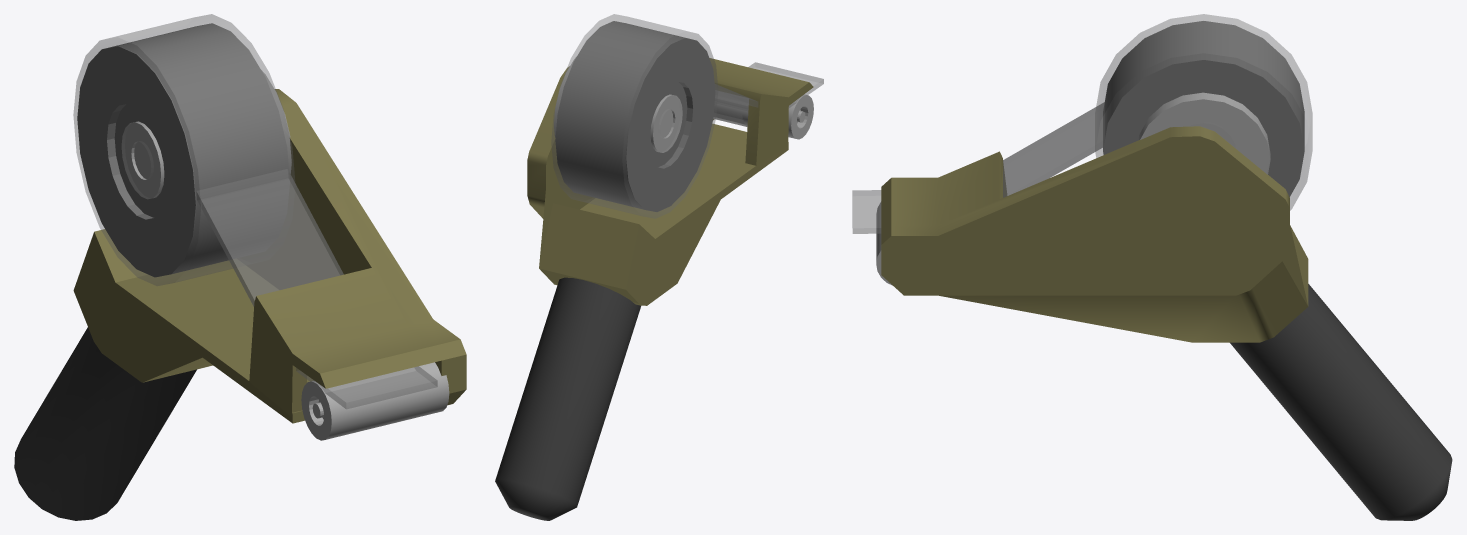
File: TapeRoller.fbx
The picture shows the model from 3 angles, left to right: view 1: azimuth 30°, elevation 25°; view 2: azimuth 150°, elevation 25°; view 3: azimuth 270°, elevation 25°; orthographic projection. The views are drawn at different scales.
Parts seen in each view (by area): view 1: TapeRoller1; view 2: TapeRoller1; view 3: TapeRoller1.
Part boxes in pixels (left/top/right/bottom): TapeRoller1: left=14, top=14, right=466, bottom=520; TapeRoller1: left=495, top=14, right=823, bottom=520; TapeRoller1: left=852, top=14, right=1452, bottom=520.
Bounding box in the file's own units: 2.07 × 7.88 × 8.91.
